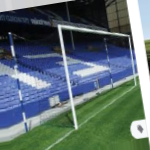goals: (31, 22, 137, 128)
